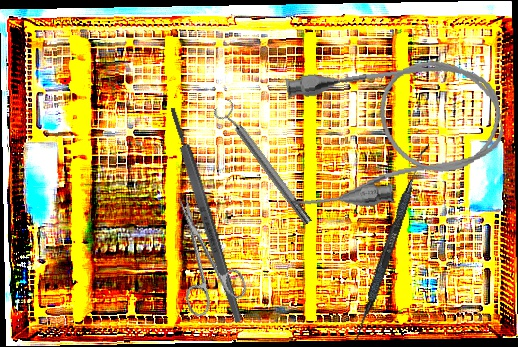Cannula: (272, 45, 512, 219)
Fixation Ring: (211, 97, 318, 231)
Iris Scissors: (155, 186, 251, 319)
Scalpel Handle: (166, 105, 245, 325)
Spatula Surgical: (352, 140, 430, 344)
